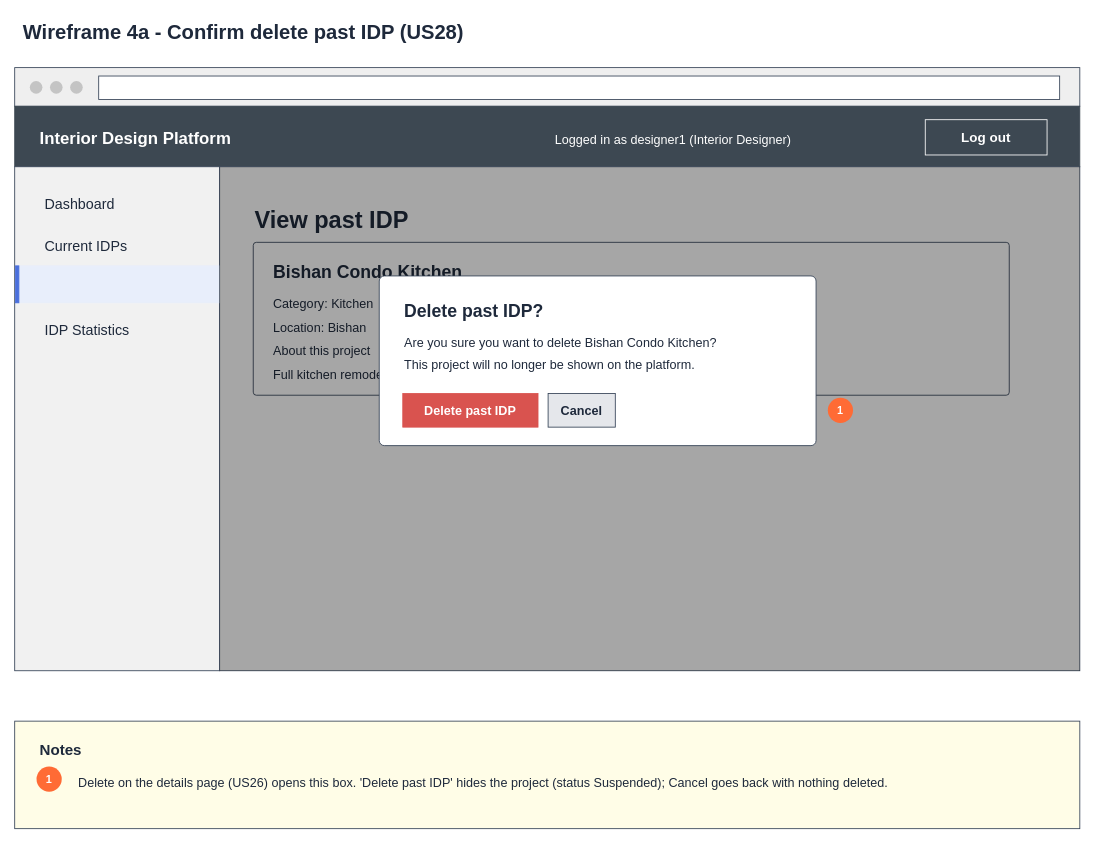
This 1095x843 diagram has some shape labels left out. The shapes that lost their labels are listed below. From the top down, each one's box as (x1, y1, x2, y2) in pixels, then its label:
(98, 75, 1060, 100): localhost:5000/designer/past-idps/2/delete
(15, 265, 219, 303): Past IDPs
